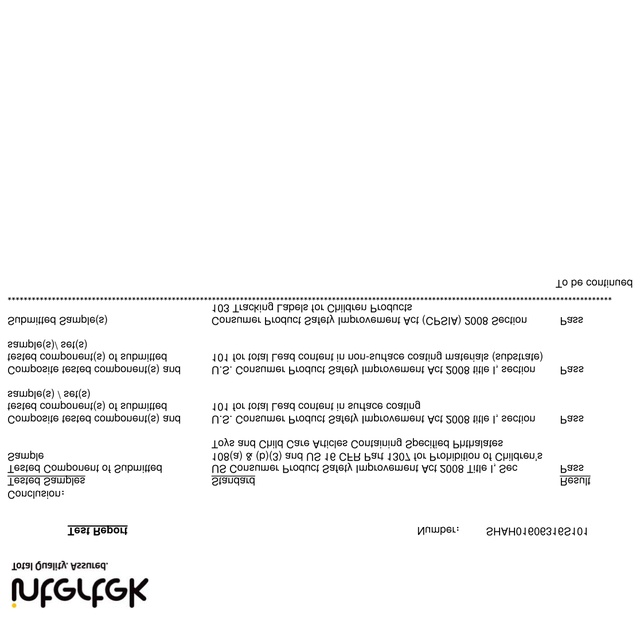intertek: (4, 575, 149, 612)
